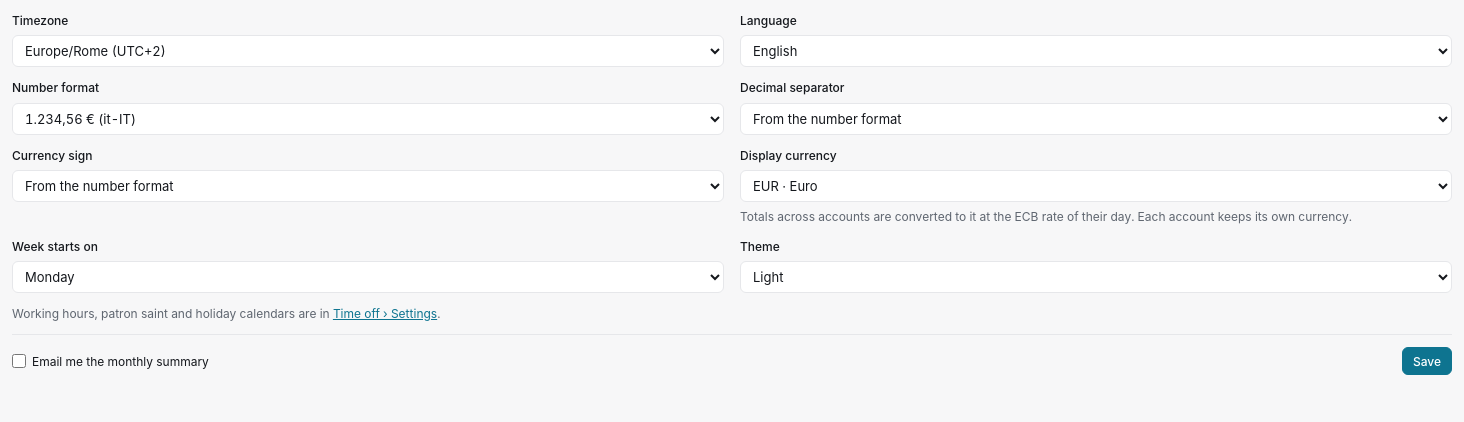
Test: PreferencesForm › shows a catalogued error instead of crashing when the action rejects unexpectedly
This screenshot has width=1464, height=422.
Click the button "Save" at {"x": 1427, "y": 361}, box [1402,347,1452,375]
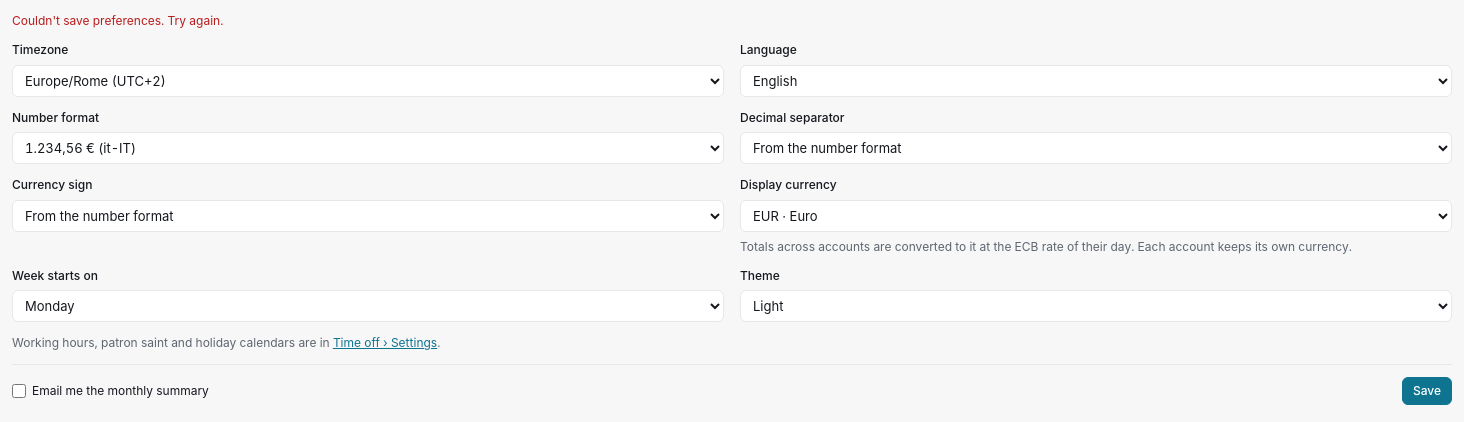
Expected: the message reads "Couldn't save preferences. Try again.", [12,13,223,28]
